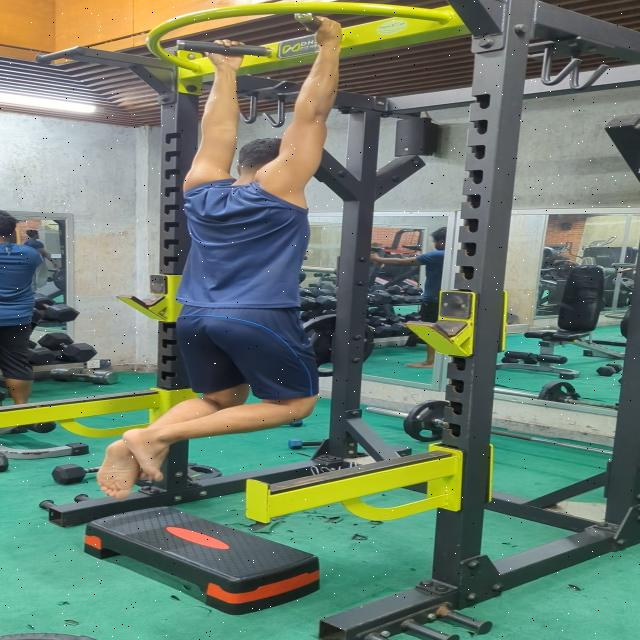Normal_PullUps: (94, 10, 348, 500)
